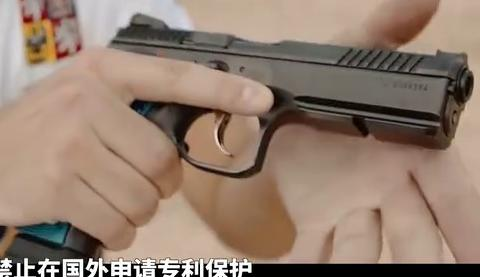gun: (1, 1, 480, 277)
